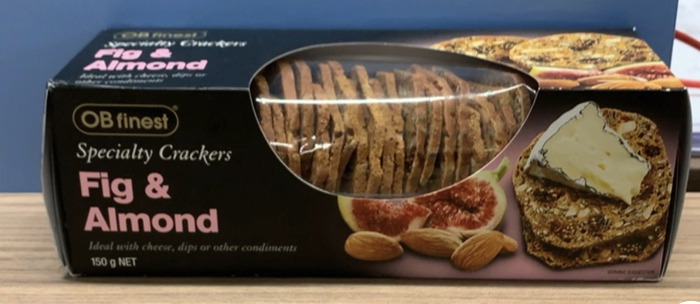crackers_100g-199g: (76, 45, 657, 271)
